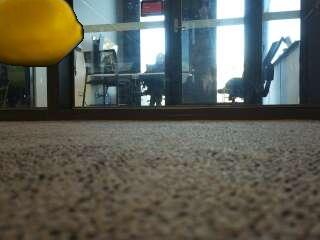lemon: (2, 1, 85, 67)
